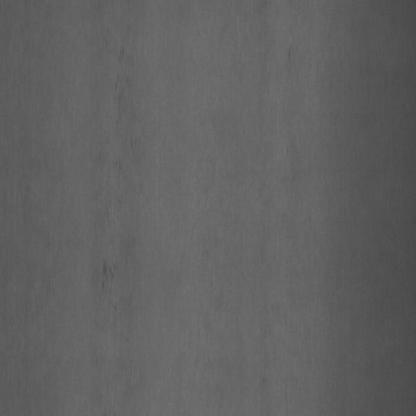silk_spot: (89, 220, 131, 300)
